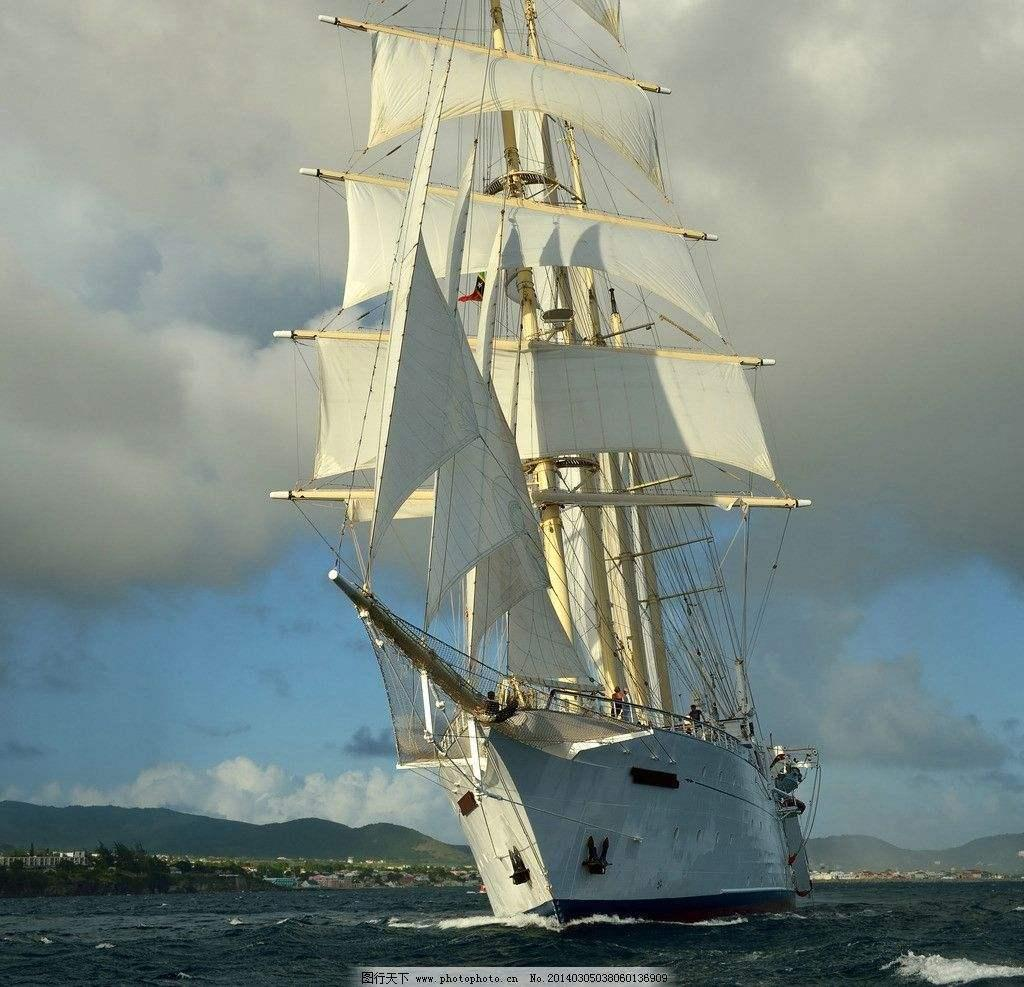fanchuan: (269, 1, 860, 925)
